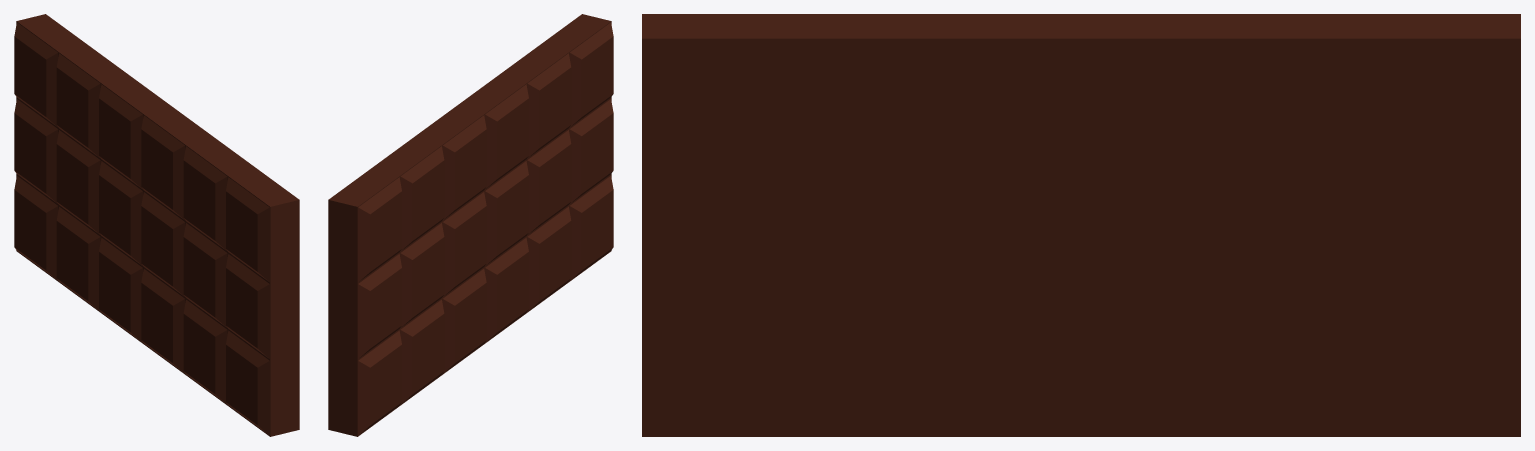
Rendered from Chocolate_whole.fbx.
3 views of the same model, side by side, from view 1: azimuth 30°, elevation 25°; view 2: azimuth 150°, elevation 25°; view 3: azimuth 270°, elevation 25° (orthographic). The views are drawn at different scales.
Visible parts, largest first — view 1: Chocolate_whole; view 2: Chocolate_whole; view 3: Chocolate_whole.
Part boxes in pixels (<box>): Chocolate_whole: <box>14,14,299,436</box>; Chocolate_whole: <box>328,14,613,436</box>; Chocolate_whole: <box>642,14,1520,436</box>.
Size of the model in its own units: 100 by 600 by 1200.
